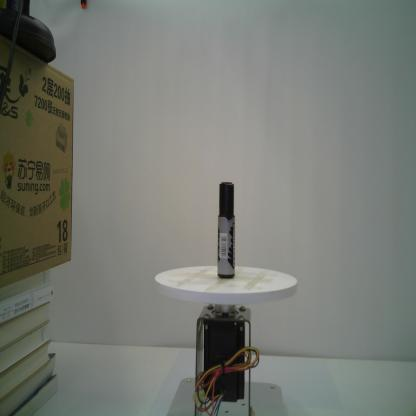Stationery: (216, 182, 236, 278)
